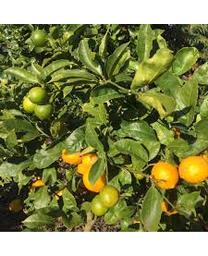lemon: (179, 156, 207, 183), (152, 162, 178, 188), (61, 142, 81, 164), (100, 186, 119, 205), (92, 195, 109, 216), (35, 101, 52, 120), (30, 86, 46, 104), (30, 30, 47, 45)
